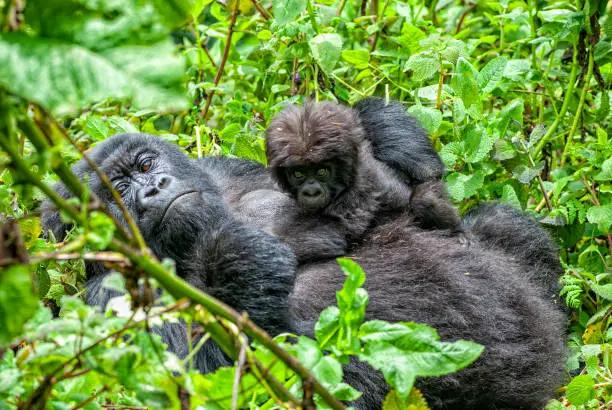goriile_montagne: (51, 138, 577, 395), (264, 109, 440, 220)
